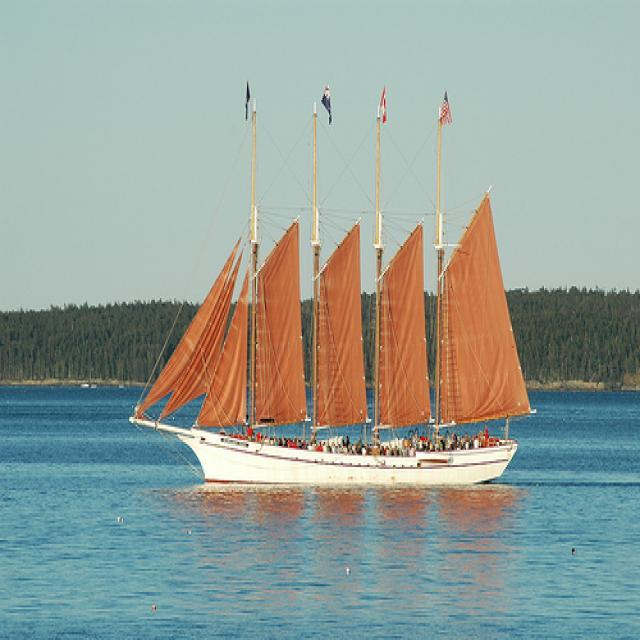Ship: (137, 86, 525, 493)
